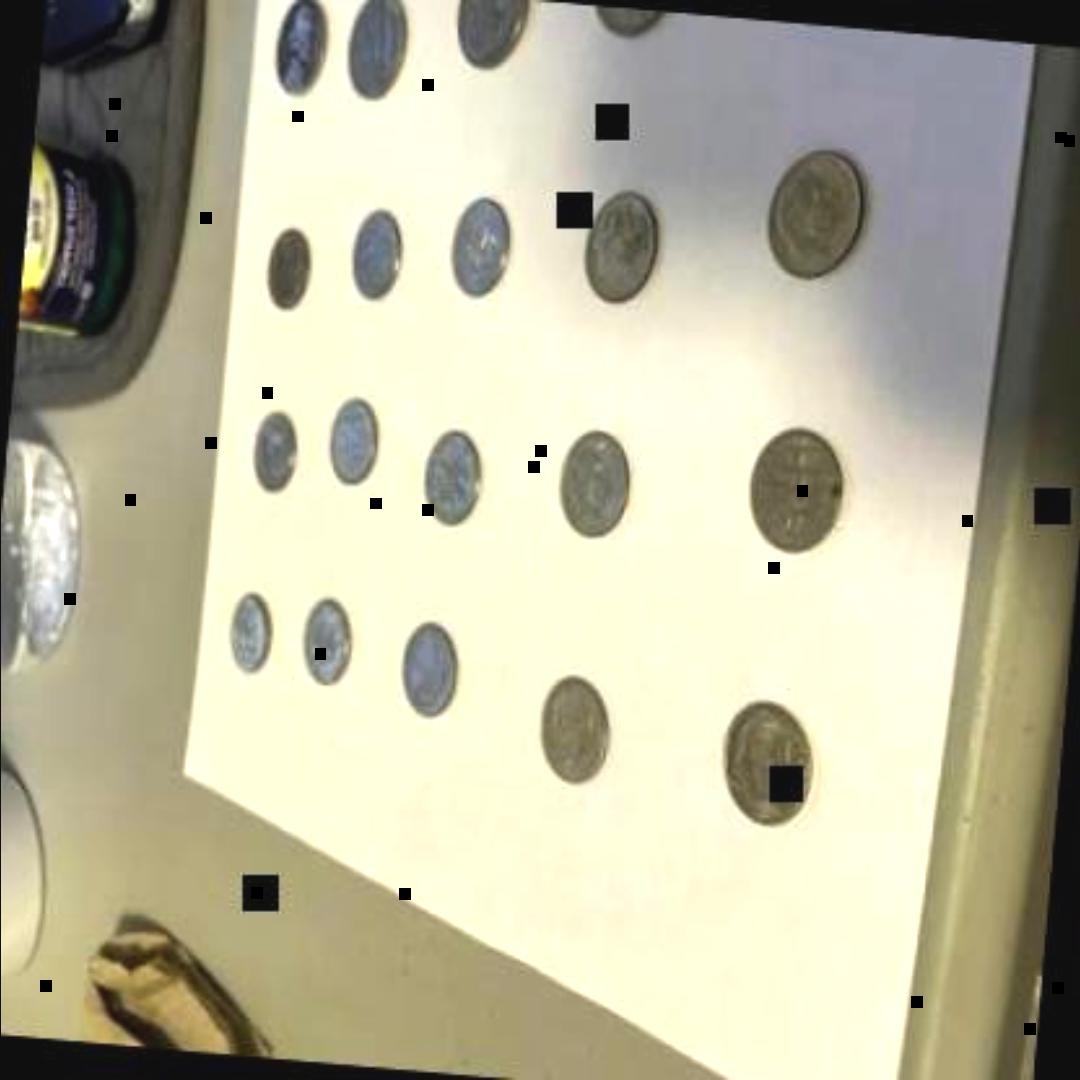Dime: (758, 142, 874, 284), (716, 696, 826, 830), (742, 420, 851, 554), (576, 182, 668, 304), (532, 664, 618, 791), (551, 422, 639, 542), (446, 190, 520, 298), (393, 610, 463, 719), (419, 425, 489, 528), (213, 582, 283, 674), (322, 391, 386, 489), (344, 202, 408, 300), (243, 402, 307, 494), (260, 220, 324, 310), (300, 590, 356, 688)
Nickel: (346, 0, 418, 110), (271, 1, 338, 101), (450, 0, 532, 68), (582, 2, 688, 43)
